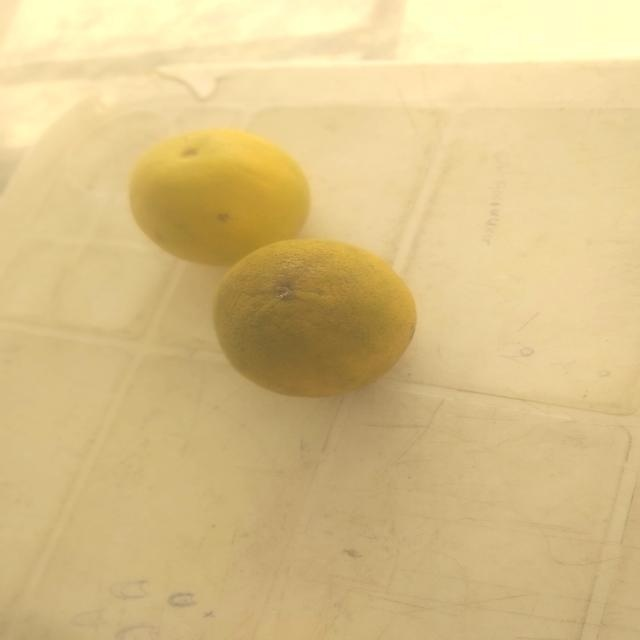agrume: (204, 236, 426, 412), (120, 129, 306, 268)
